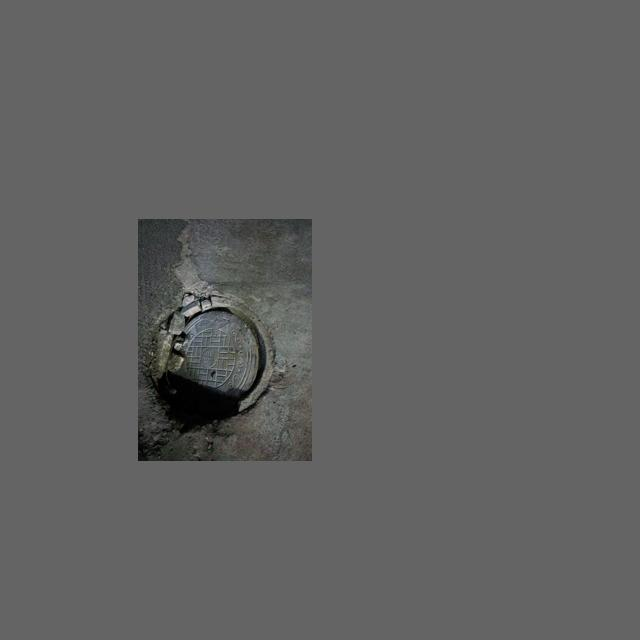circle: (143, 294, 279, 424)
